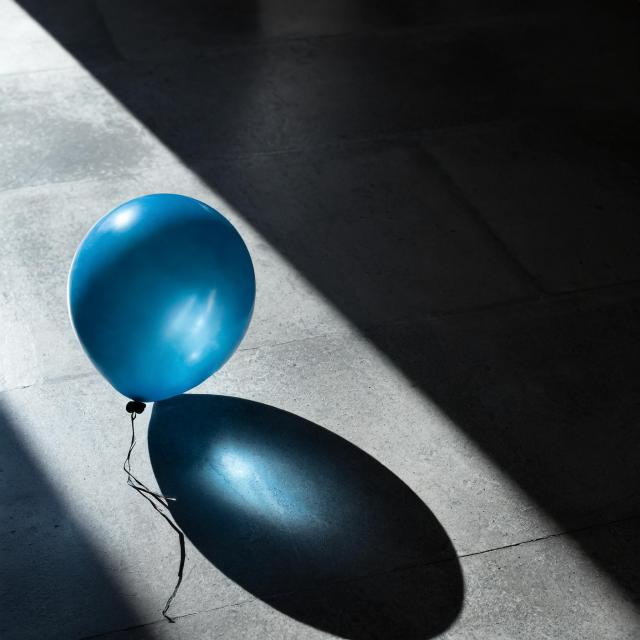blue: (69, 195, 256, 421)
